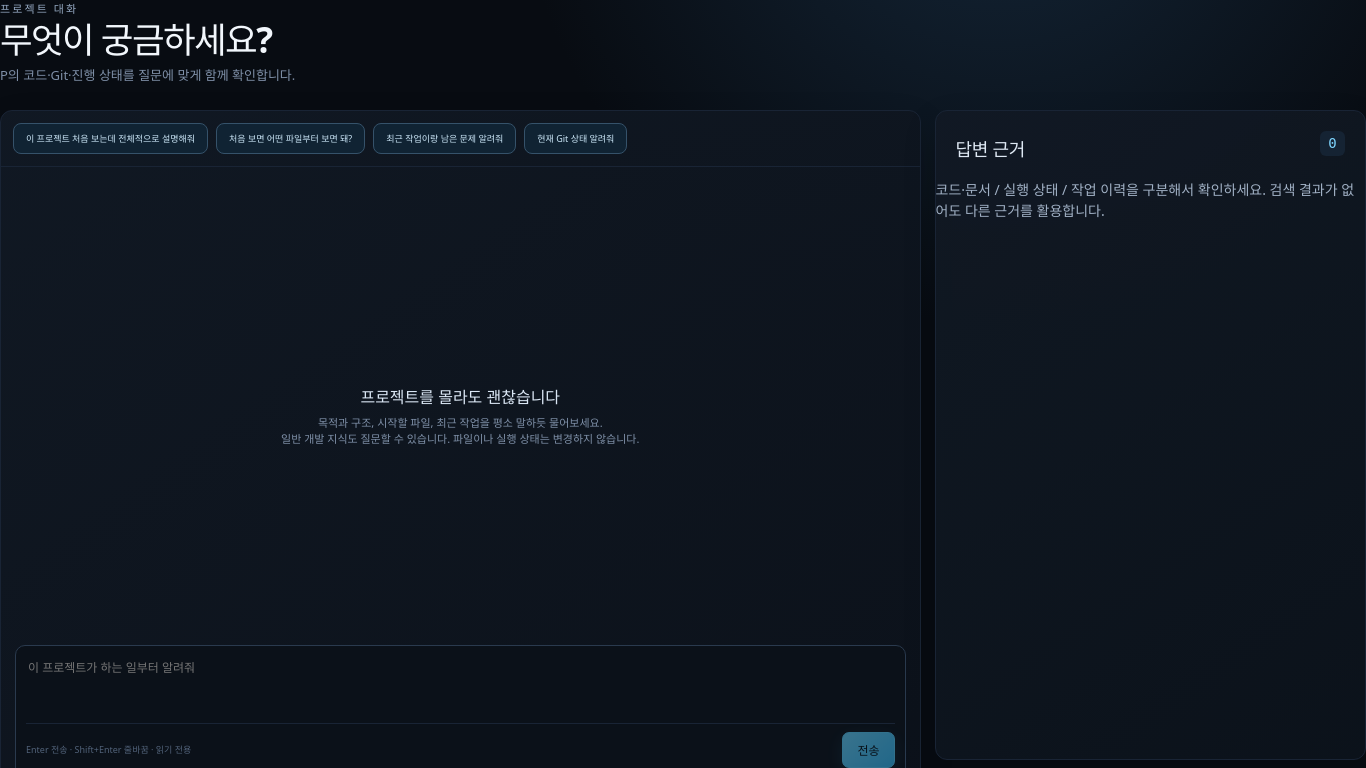
Test: Unified input reset › clears immediately after button and keeps the submitted question in the result
Type "보낸 질문" into the text box named "채팅 질문" at (460, 687), box [26,656,894,718]
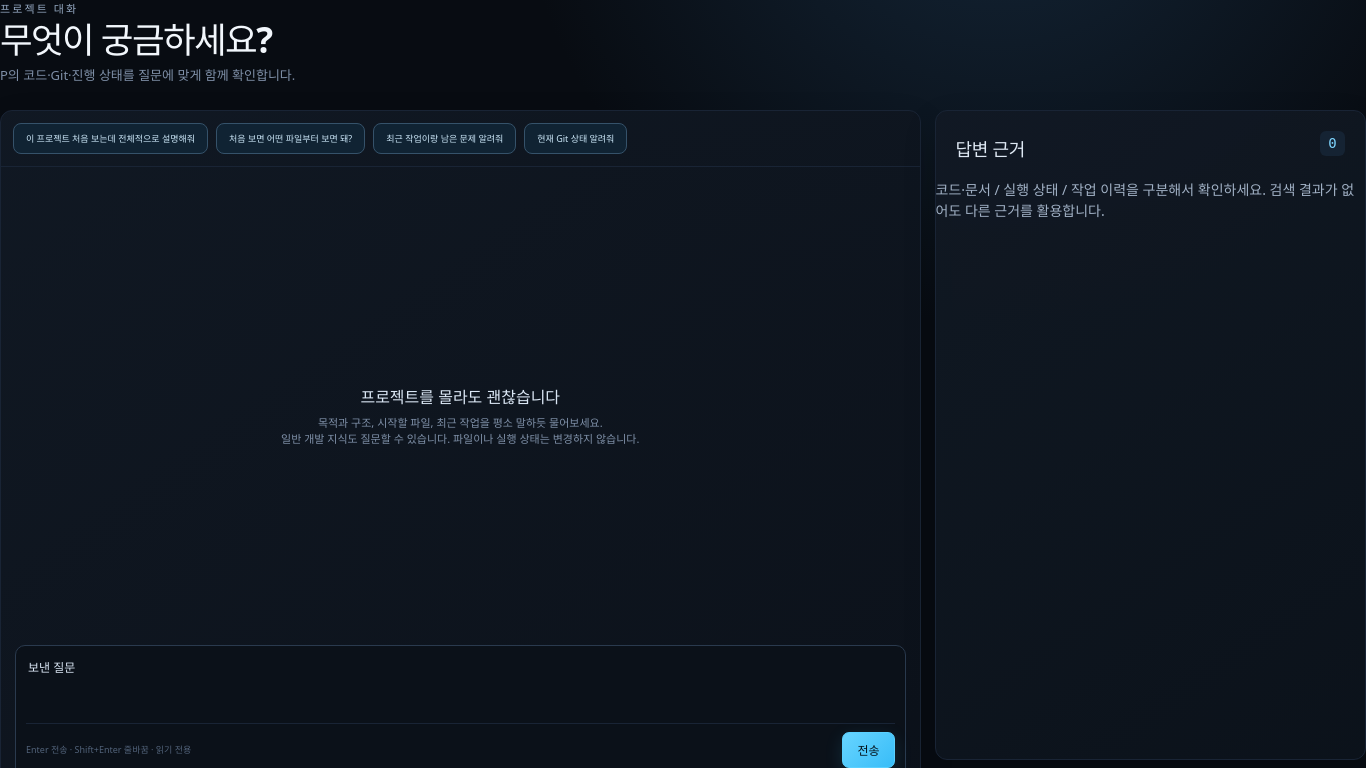
Click the button "전송" at (868, 750), box [842,732,894,767]
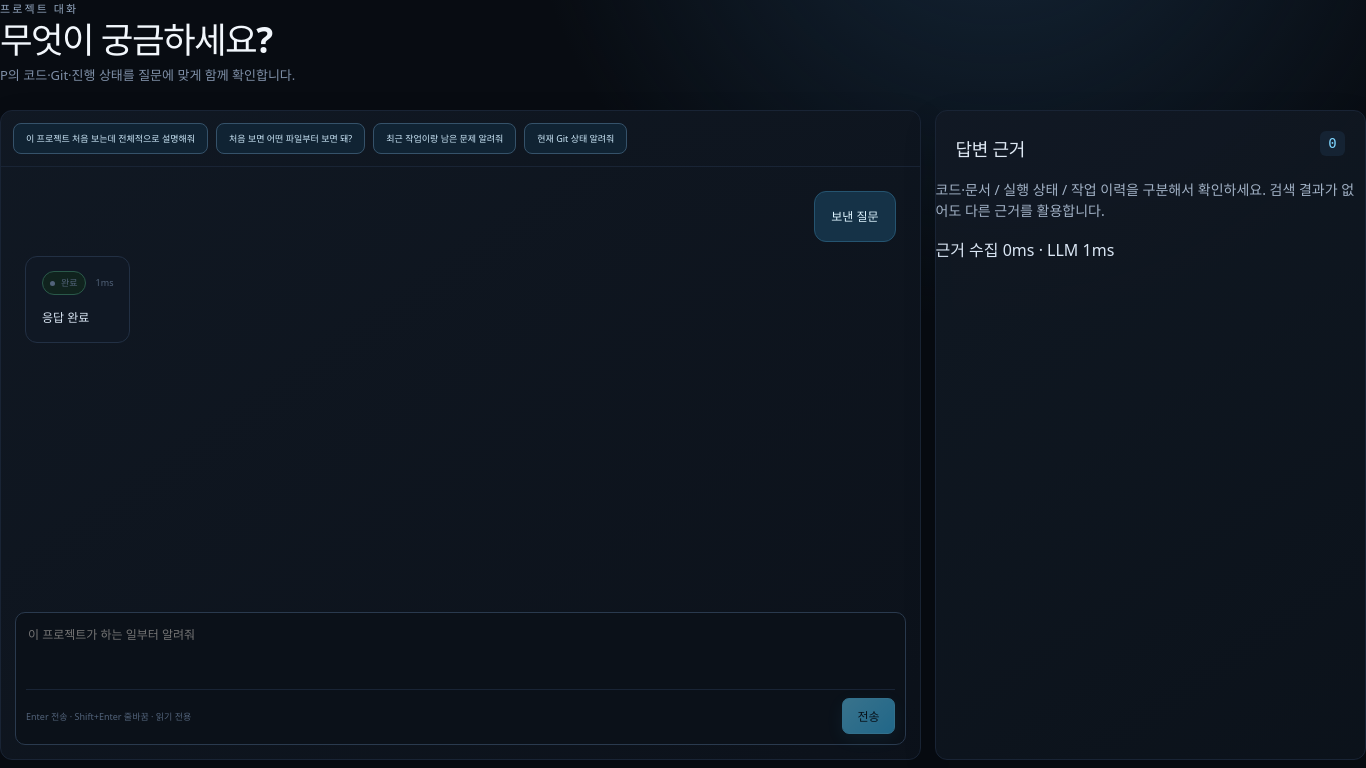
Result: the text "보낸 질문" is shown at [814,191,896,242]
Result: the text box named "채팅 질문" is empty at [26,623,894,684]
